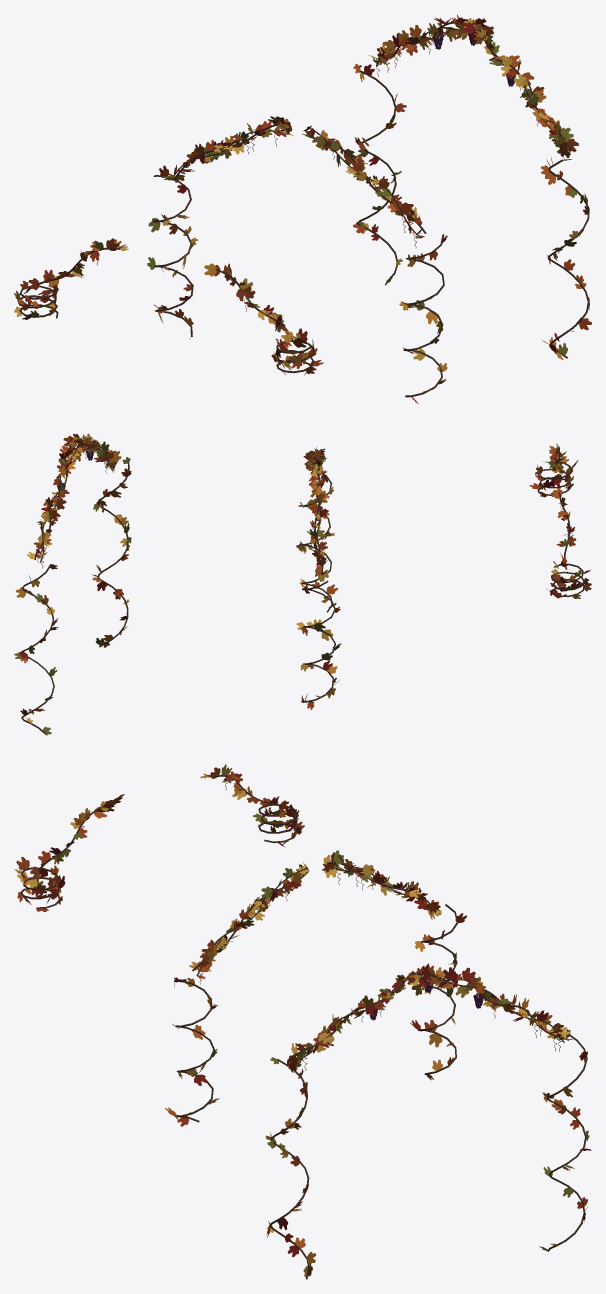
File: vines-grapevine.glb
The picture shows the model from 3 angles, top to bottom: view 1: azimuth 30°, elevation 25°; view 2: azimuth 150°, elevation 25°; view 3: azimuth 270°, elevation 25°; orthographic projection. The views are drawn at different scales.
Parts seen in each view (by area): view 1: vines-grapevine; view 2: vines-grapevine; view 3: vines-grapevine.
Part boxes in pixels (x1=…): vines-grapevine: x1=14, y1=15, x2=591, y2=403; vines-grapevine: x1=14, y1=433, x2=591, y2=735; vines-grapevine: x1=14, y1=764, x2=591, y2=1279.
Size of the model in its own units: 311787 by 156031 by 273878.
